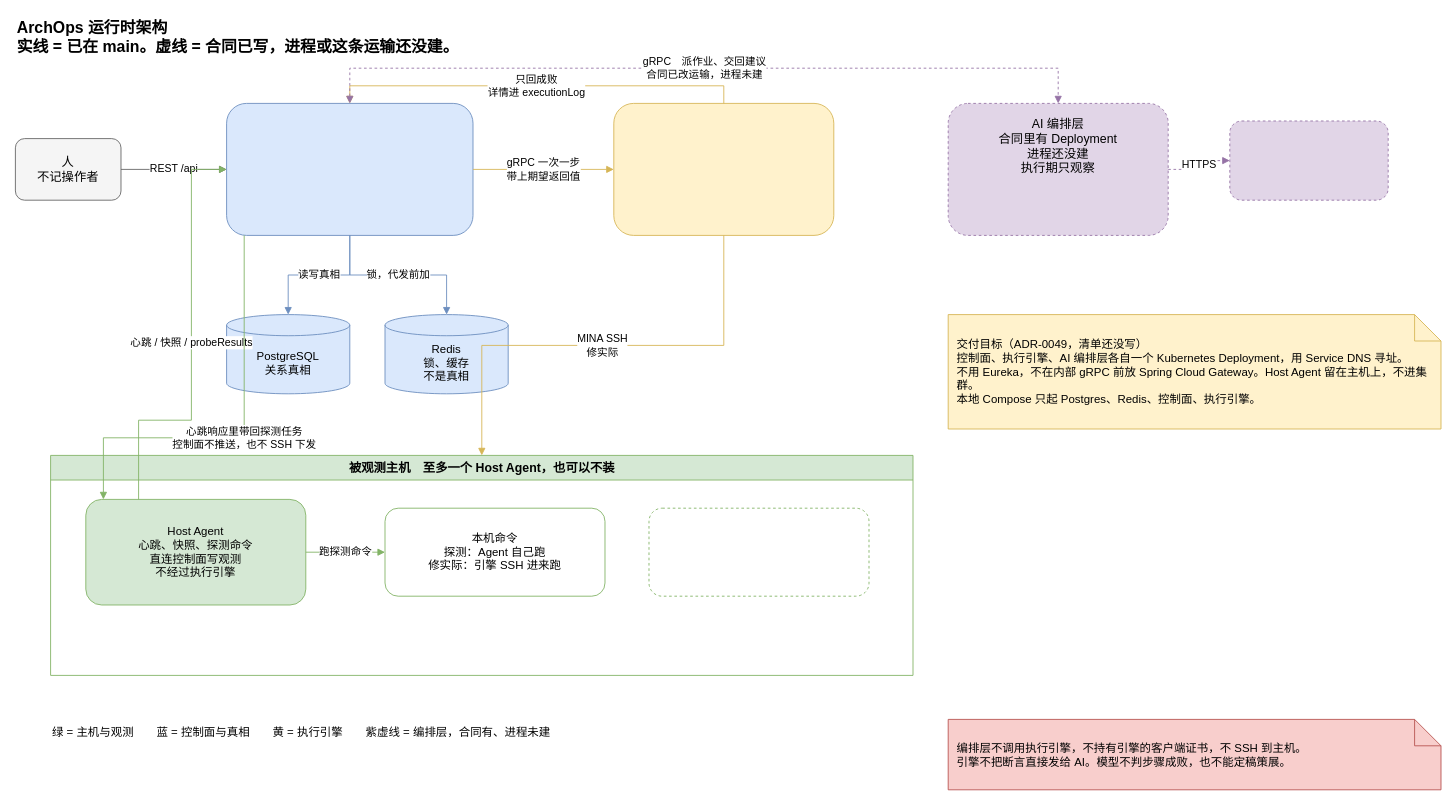
Some shapes in this 1456 by 805 pixel diagram are drawn without their labels. Each missing label, with the centre of its shape:
"执行引擎 唯一会改主机的部件 解密凭证，MINA SSH 做步骤断言" goes at (x=723, y=169).
"控制面 一个进程，可多副本 公开 API 仍是 REST 不持模型密钥，生产不 SSH" goes at (x=349, y=169).
"模型 API HTTPS 白名单 密钥只在编排层" goes at (x=1308, y=160).
"没有 Agent 的主机 修实际仍只走执行引擎的 SSH" goes at (x=758, y=551).
